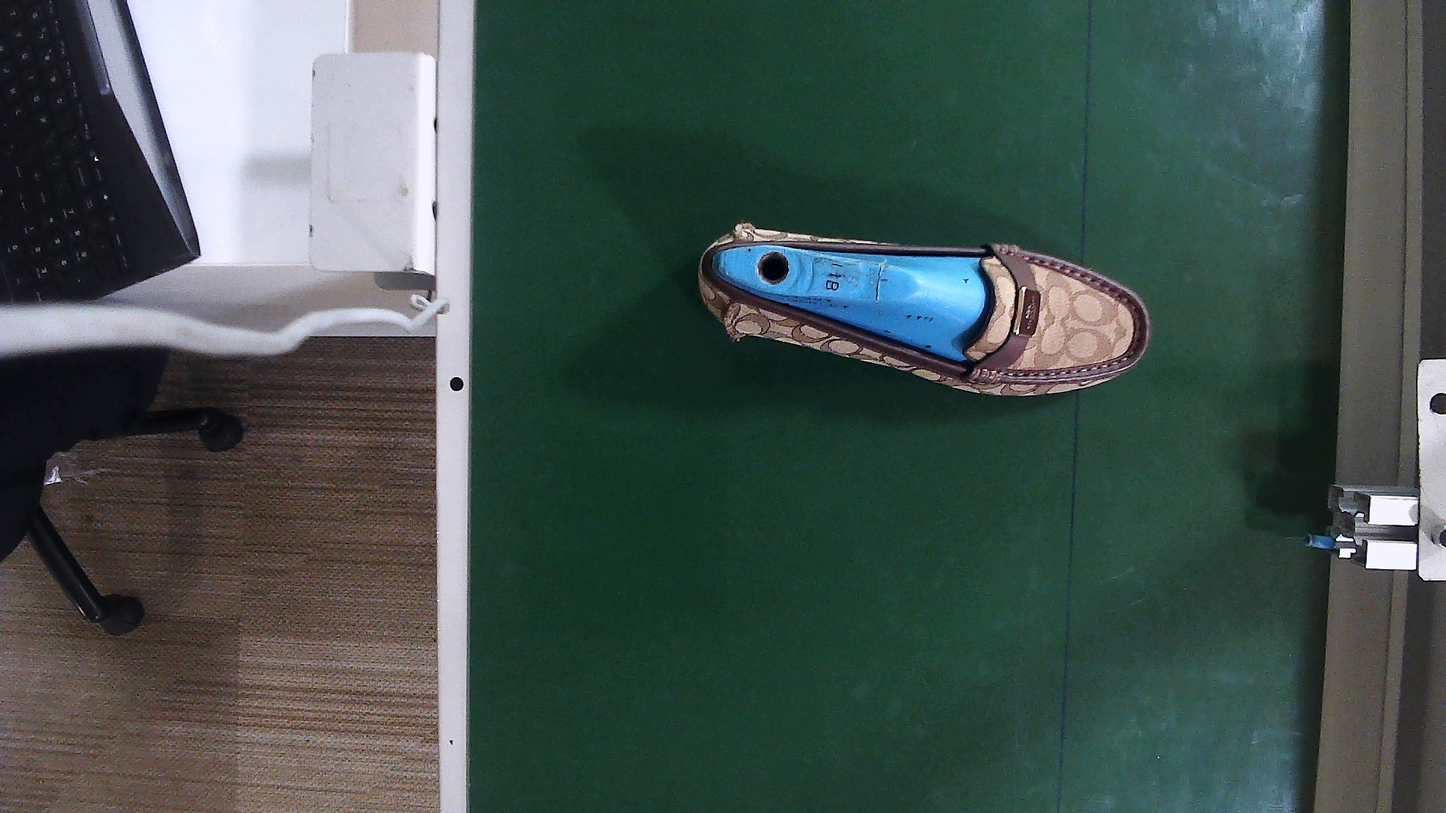shoe: (700, 226, 1149, 397)
